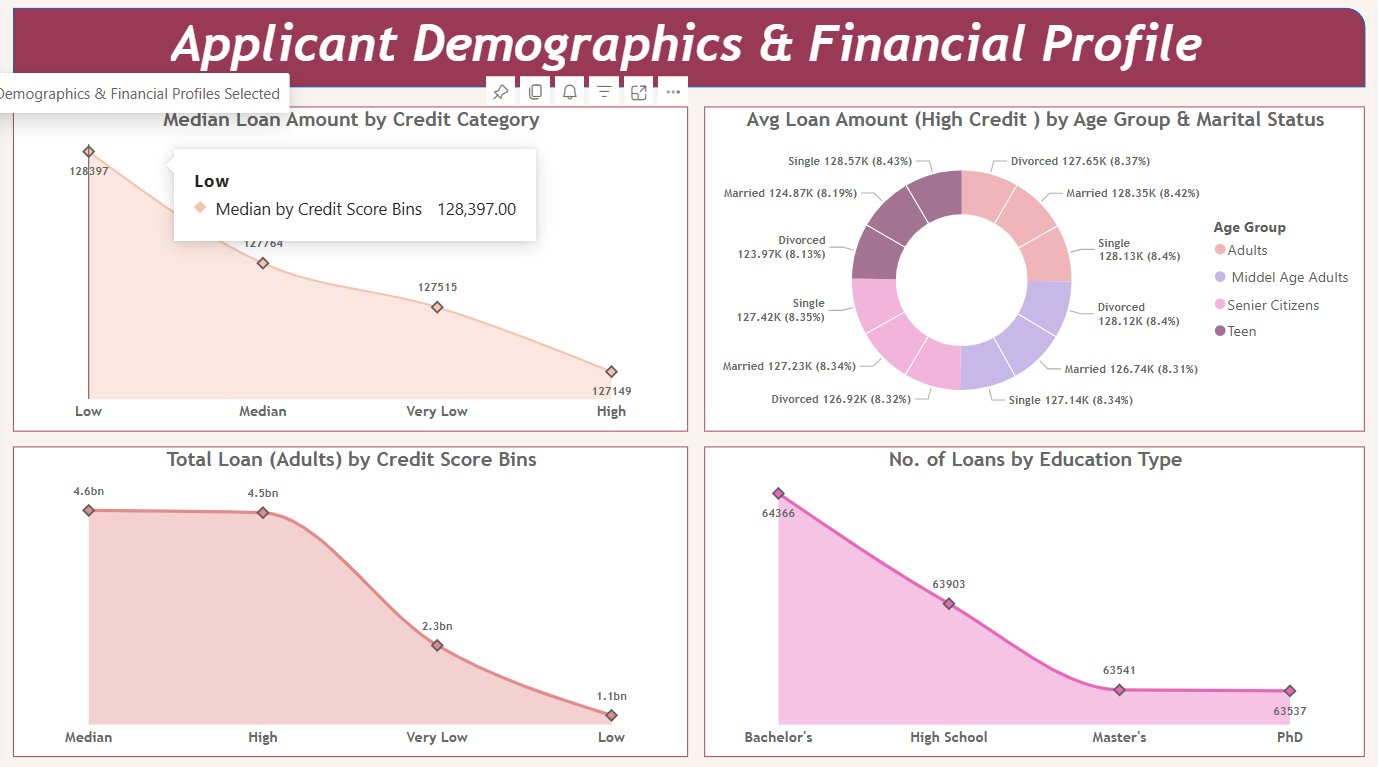

The dashboard page shown, as its layout file describes it:
{"tool":"powerbi","page":{"name":"Applicant Demographics & Financial Profiles","canvas":[1280,720],"ordinal":1},"visuals":[{"type":"shape","box":[9.5,8.1,1261.4,74.3],"z":0},{"type":"lineChart","title":"Median Loan Amount by Credit Category","fields":{"Y":["Measure Table 2.Median by Credit Score Bins"],"Category":["Loan_default.Credit Score Bins"]},"box":[9.8,100.3,629.8,303.3],"z":1000},{"type":"donutChart","title":"Avg Loan Amount (High Credit ) by Age Group & Marital Status","fields":{"Category":["Loan_default.Age Group"],"Y":["Measure Table 2.Average Loan Amt (High credit )"],"Series":["Loan_default.MaritalStatus"]},"box":[654.5,100.2,616.1,303.3],"z":2000},{"type":"lineChart","title":"Total Loan (Adults)  by Credit Score Bins","fields":{"Category":["Loan_default.Credit Score Bins"],"Y":["Measure Table 2.Total Loan (Credit Bins)"]},"box":[9.8,417,629.8,289.8],"z":3000},{"type":"lineChart","title":"No. of Loans by Education Type","fields":{"Y":["Measure Table 2.Loan by Education Type"],"Category":["Loan_default.Education"]},"box":[654.2,417,616.3,289.8],"z":5000}]}

Visuals, with their boxes on the page's 1280x720 design canvas (x1, y1, x2, y2). These are canvas units, not pixel positions in the 1378x767 screenshot, which may show the page scaled, cropped or inside an application window:
shape: Rect(10, 8, 1271, 82)
"Median Loan Amount by Credit Category" lineChart: Rect(10, 100, 640, 404)
"Avg Loan Amount (High Credit ) by Age Group & Marital Status" donutChart: Rect(654, 100, 1271, 404)
"Total Loan (Adults)  by Credit Score Bins" lineChart: Rect(10, 417, 640, 707)
"No. of Loans by Education Type" lineChart: Rect(654, 417, 1270, 707)
